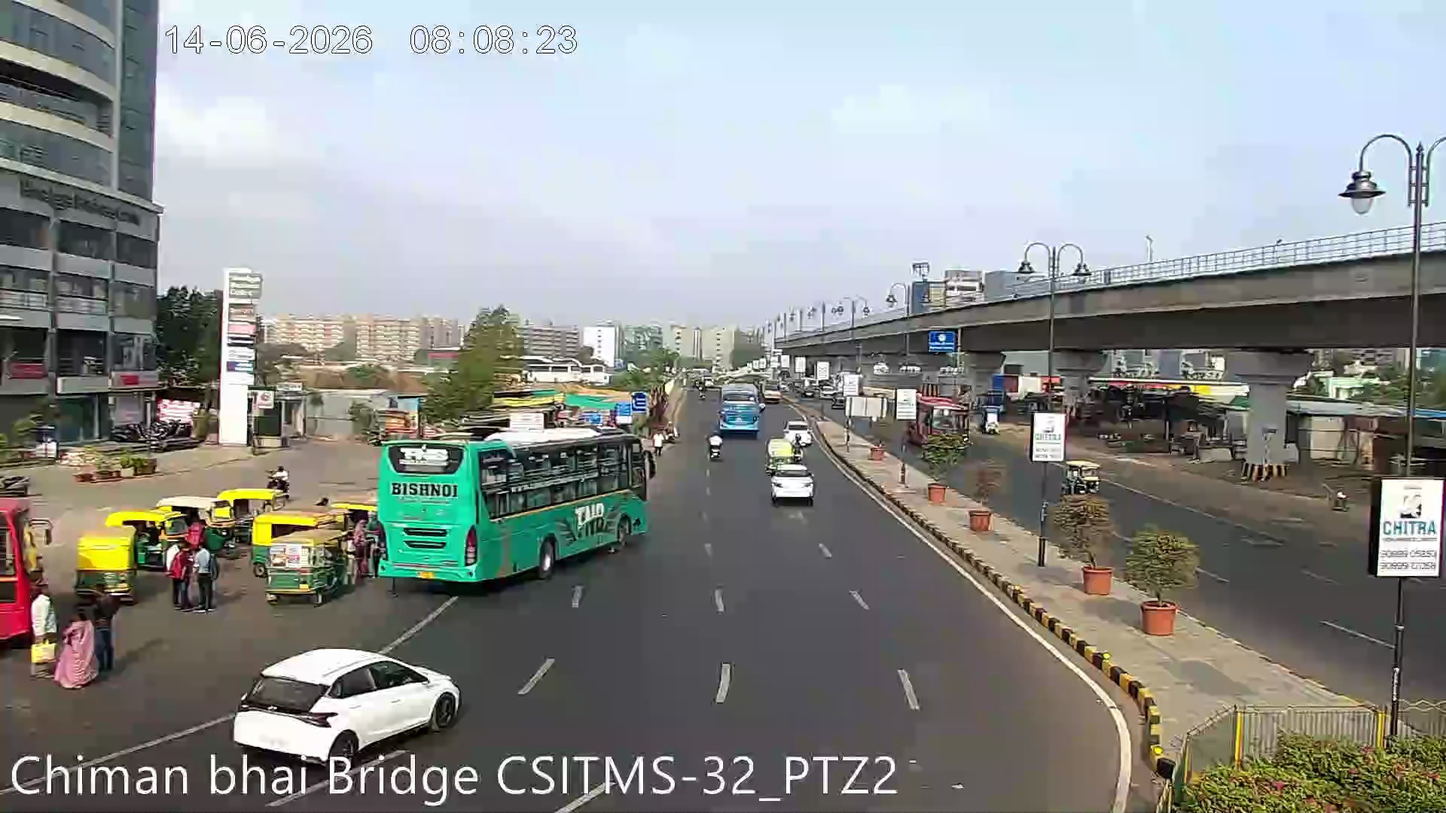auto_rickshaw: (252, 504, 359, 599), (76, 509, 157, 596), (95, 499, 189, 569), (207, 482, 284, 545), (73, 527, 138, 601)
bus: (367, 423, 663, 578), (0, 479, 49, 657), (717, 381, 763, 433)
car: (228, 646, 467, 753), (766, 459, 817, 506), (0, 463, 31, 496)
pedestrian: (61, 602, 113, 687), (193, 542, 220, 617), (167, 540, 192, 615)
two_wheeler: (704, 424, 726, 463)
